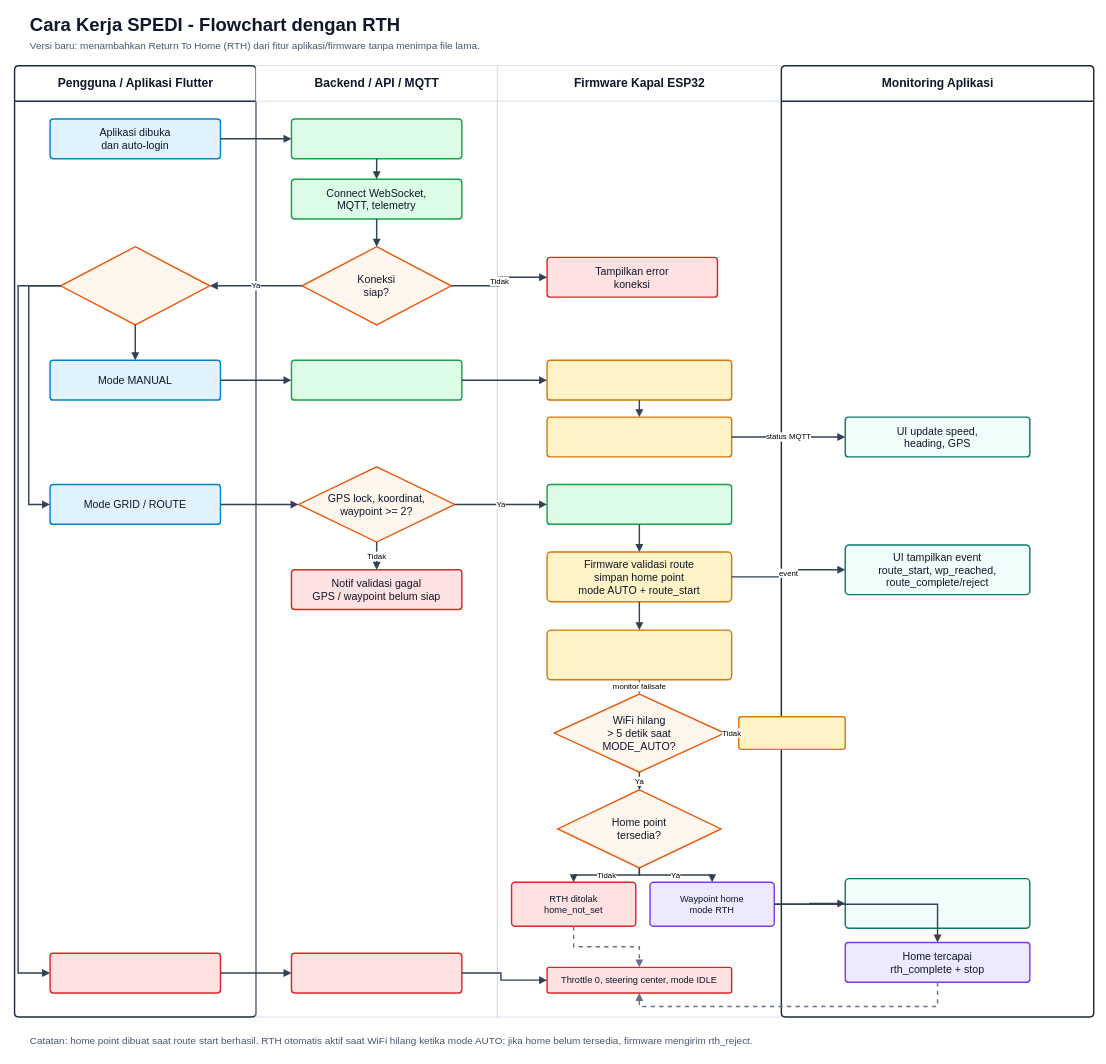
Image size: 1106x1064. Some labels were removed from this diagram. Each missing label, with the box of its shape:
Autopilot ke waypoint PI steering, fuzzy speed, obstacle avoidance: (546, 629, 732, 680)
Buka session device SPEDI: (290, 118, 462, 159)
Create route backend dan start via MQTT: (546, 484, 732, 525)
Emergency Stop: (49, 952, 221, 993)
ESP32 baca command joystick: (546, 359, 732, 400)
Kirim command stop: (290, 952, 462, 993)
Kirim joystick throttle / steering: (290, 359, 462, 400)
Lanjut autopilot: (738, 716, 846, 750)
Motor dan servo bergerak: (546, 416, 732, 457)
Operator pilih mode?: (60, 246, 210, 325)
Telemetry RTH mode=rth, rth_active, home_set, home_lat/lng: (844, 878, 1030, 929)
